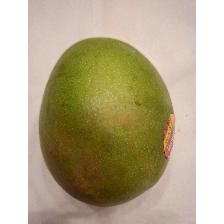Mango: (36, 36, 176, 210)
